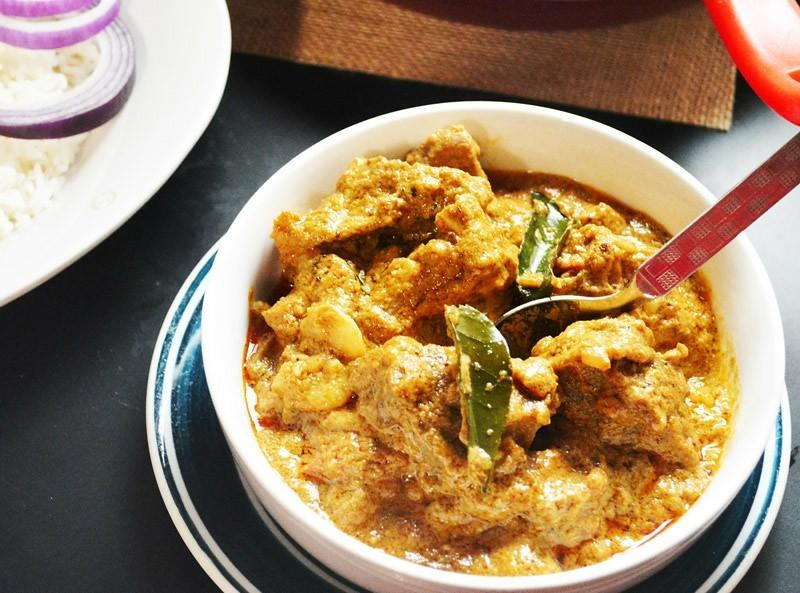MuttonCurry: (238, 121, 727, 571)
